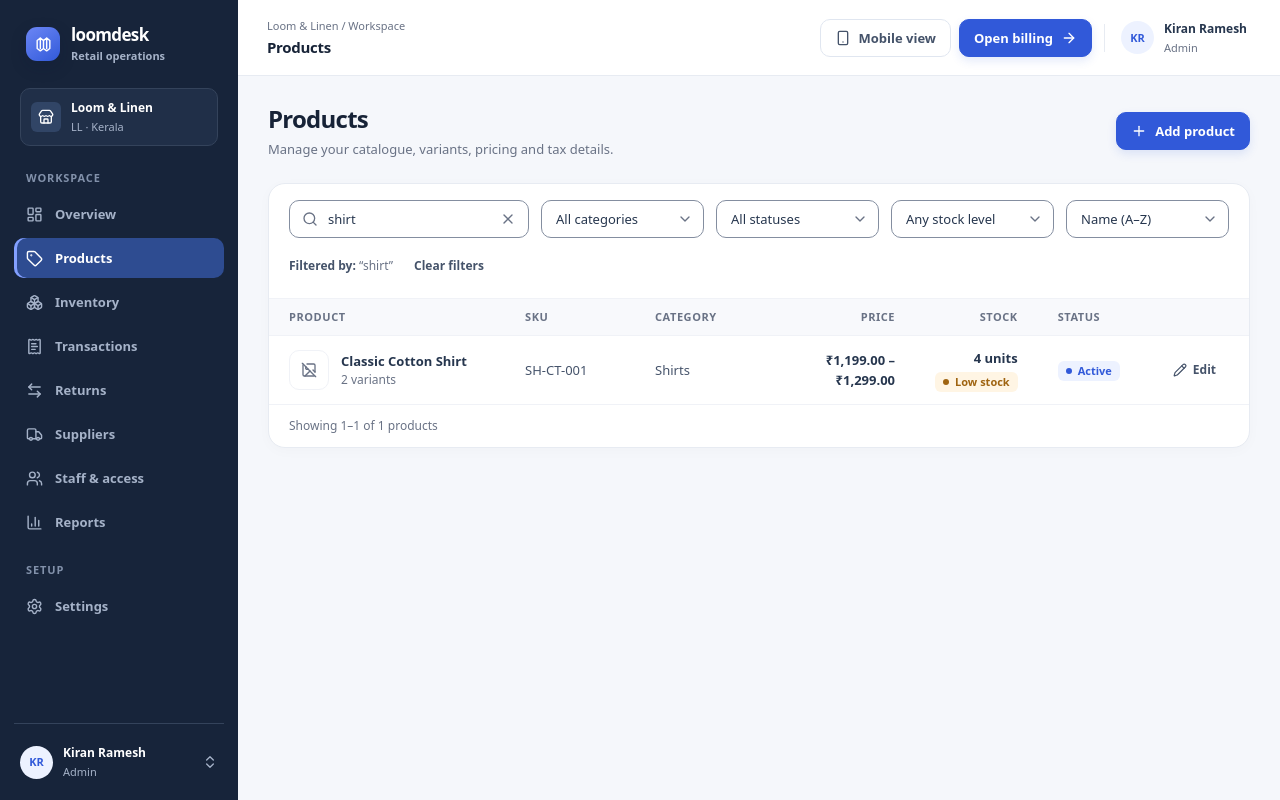
Test case: catalogue › drops typing that was still waiting to apply when filters are cleared
Expected: the link "Classic Cotton Shirt" is shown, [341, 352, 467, 370]
Type "s" into the search field named "Search products" at coordinates (405, 219), box [318, 201, 492, 237]
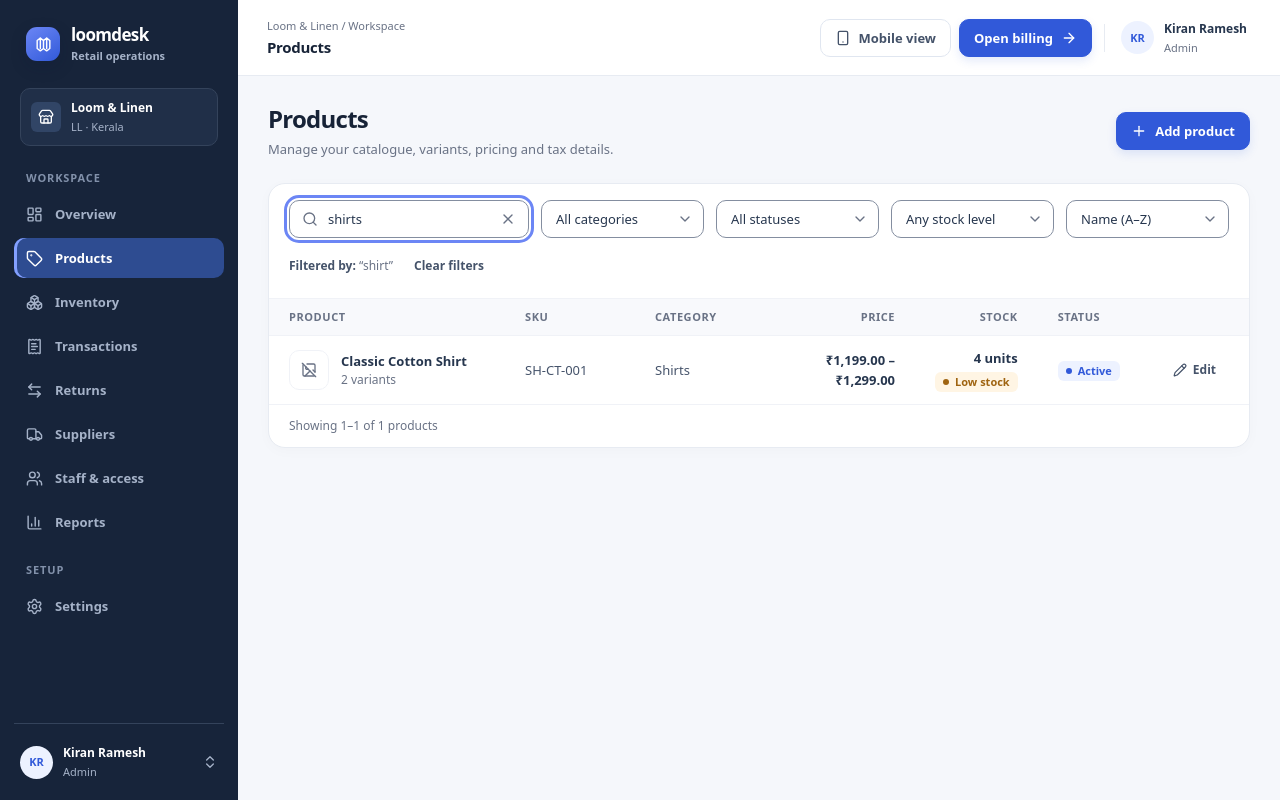
Click the button "Clear filters" at coordinates (449, 266), box [401, 250, 497, 282]
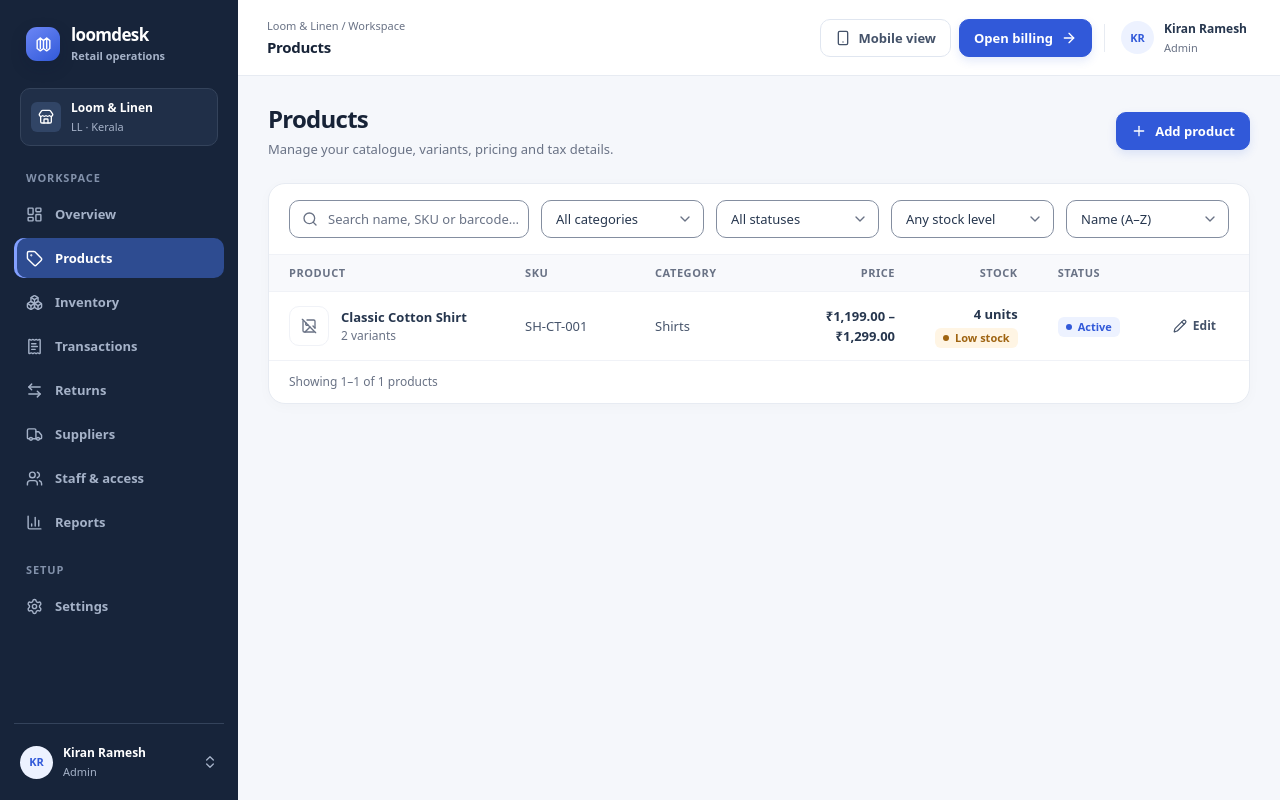
Expected: the search field named "Search products" is empty, [318, 201, 528, 237]
